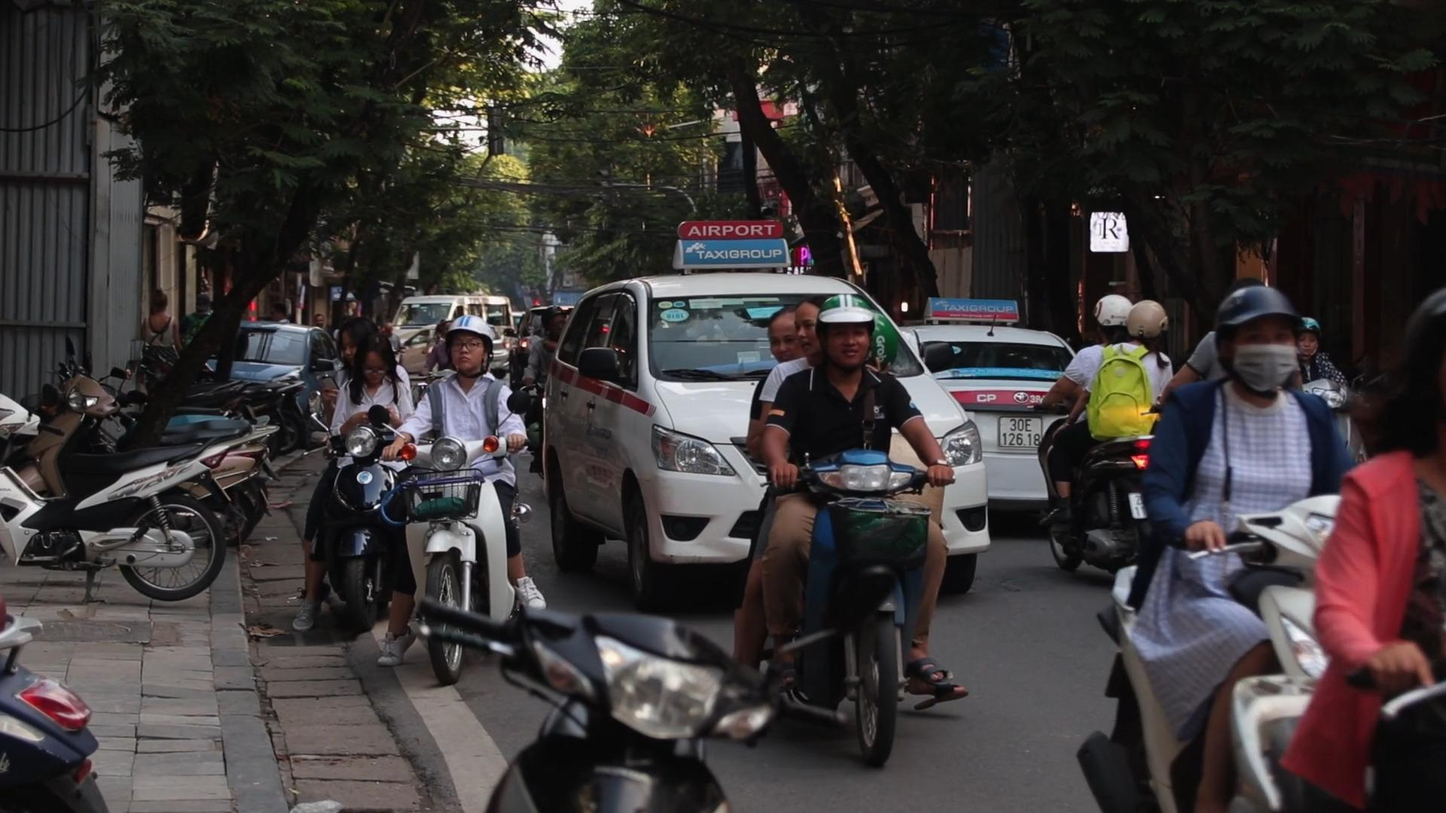driver: (1076, 286, 1365, 813), (731, 293, 967, 767), (368, 314, 548, 686), (1028, 293, 1172, 575), (291, 317, 416, 633)
helmet: (1215, 286, 1298, 400), (816, 293, 875, 370), (445, 315, 493, 379), (1126, 300, 1169, 346), (1093, 294, 1132, 343), (1298, 317, 1322, 357)
no-helmet: (338, 316, 379, 368), (355, 334, 393, 385), (769, 305, 798, 364), (795, 298, 822, 356)
